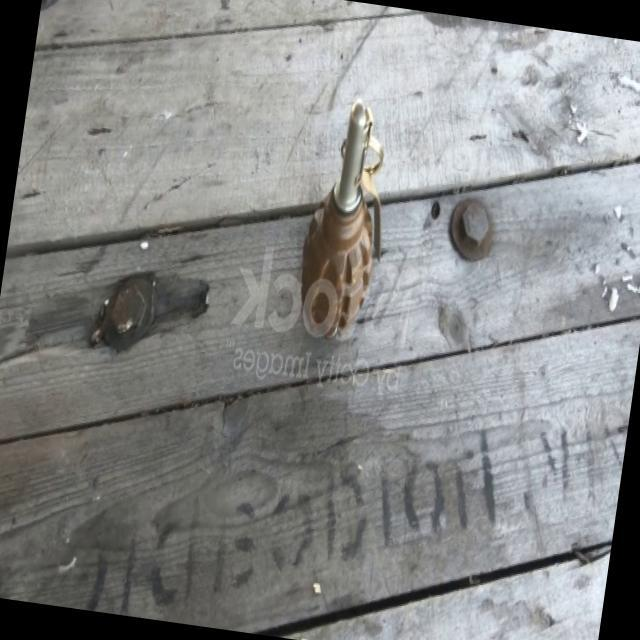grenade: (288, 96, 404, 350)
